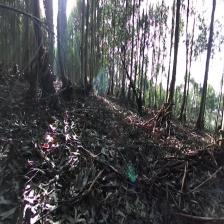trunk: (194, 11, 215, 128), (164, 5, 180, 108), (57, 5, 70, 86), (34, 2, 46, 56)
